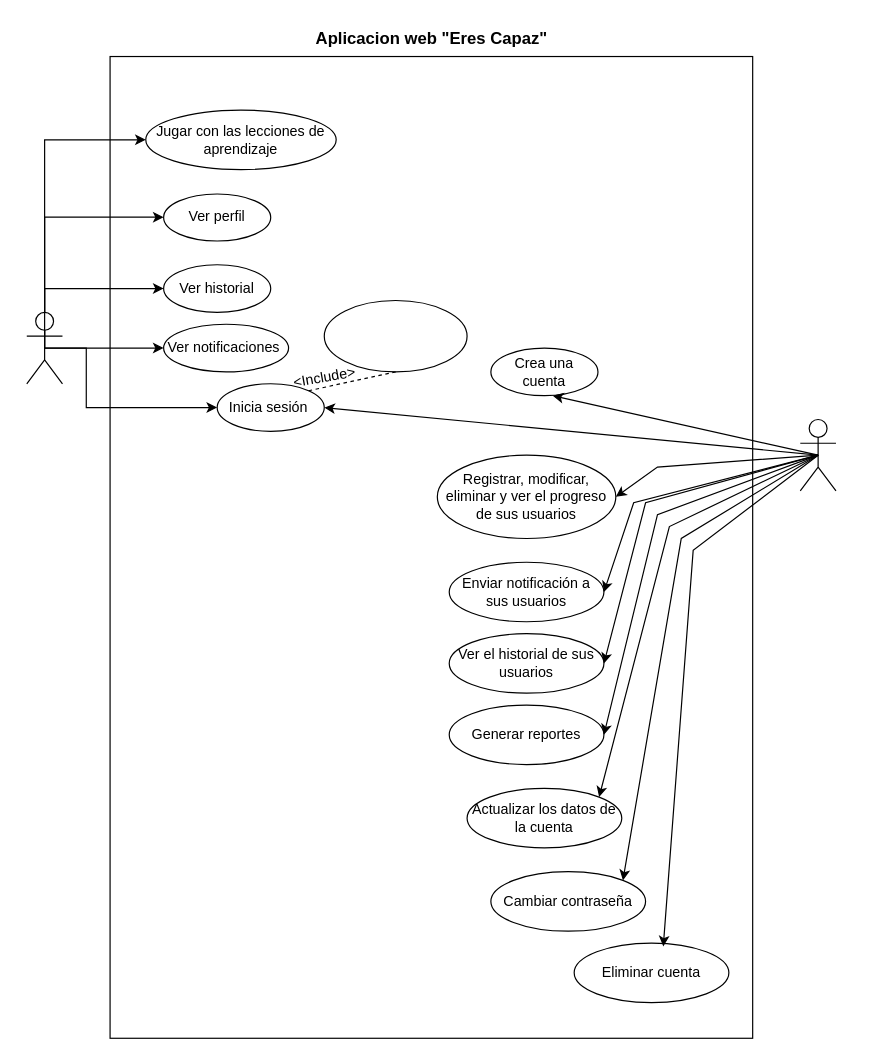
Some shapes in this 883 by 1059 pixel diagram are drawn without their labels. Here are the shapes that lost their labels. From the top down, the box of each, then its label:
(26, 311, 62, 384): Usuario
(323, 299, 467, 372): Verificación de los credenciales
(799, 418, 836, 491): Administrador
